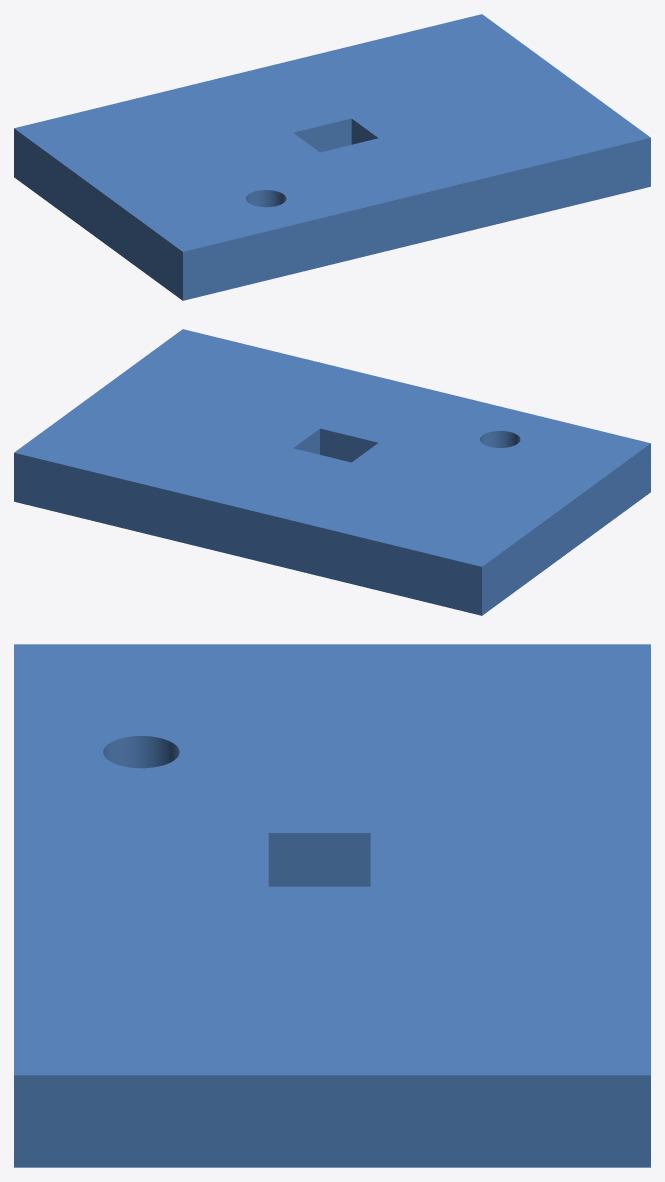
3 renders of one model, top to bottom at view 1: azimuth 30°, elevation 25°; view 2: azimuth 150°, elevation 25°; view 3: azimuth 270°, elevation 25°, orthographic. The views are drawn at different scales.
Parts seen in each view (by area): view 1: Agent-CAD part; view 2: Agent-CAD part; view 3: Agent-CAD part.
Boxes of the visible parts, left/top/right/bottom form: Agent-CAD part: left=14, top=14, right=650, bottom=300; Agent-CAD part: left=14, top=329, right=650, bottom=615; Agent-CAD part: left=14, top=644, right=650, bottom=1167.
Size of the model in its own units: 0.08 by 0.008 by 0.05.
